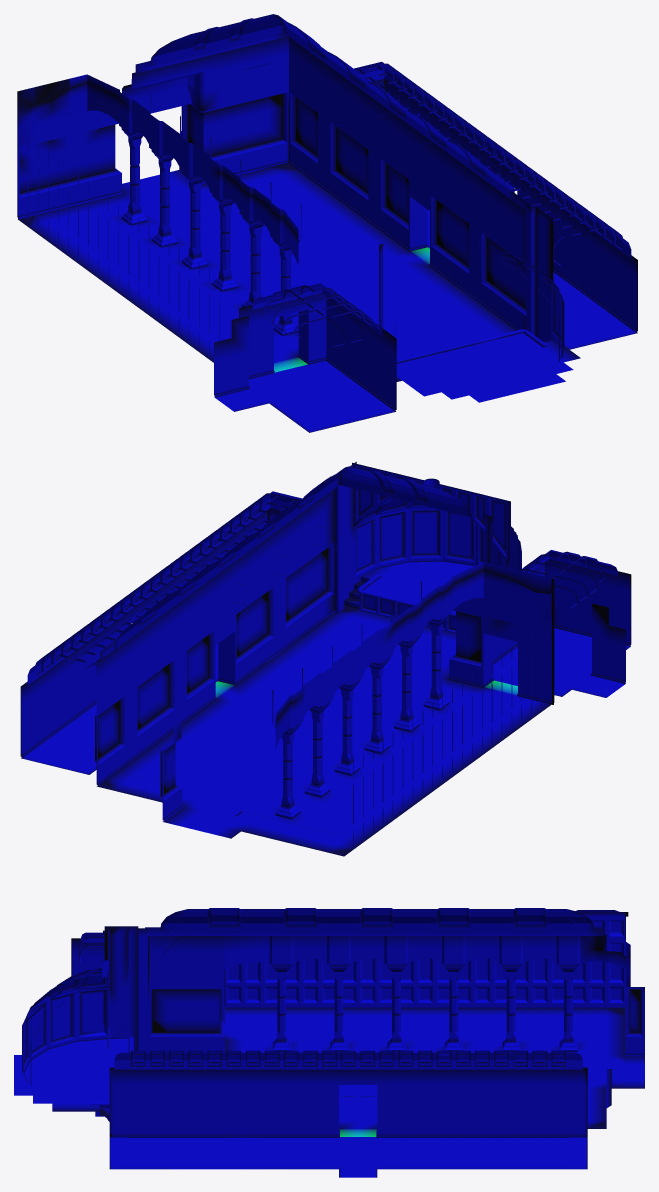
Rendered from castle_ballroom.glb.
3 renders of one model, top to bottom at view 1: azimuth 30°, elevation 25°; view 2: azimuth 150°, elevation 25°; view 3: azimuth 270°, elevation 25°, orthographic. The views are drawn at different scales.
Visible parts, largest first — view 1: StoneWalls, WoodenFloor, StoneFloor, StoneCeiling, WoodenRoofLarge, Pillars, StageBackwall, WoodenPanels, StageFront; view 2: StoneWalls, WoodenFloor, StageBackwall, StoneCeiling, Pillars, WoodenRoofLarge, StoneFloor, WoodenPanels, StageFront; view 3: StoneWalls, WoodenFloor, WoodenPanels, StoneFloor, WoodenRoofLarge, StageBackwall, StoneCeiling, Pillars.
Boxes of the visible parts, left/top/right/bottom form: StoneWalls: left=17, top=36, right=637, bottom=430; WoodenFloor: left=18, top=163, right=580, bottom=402; StoneFloor: left=215, top=209, right=637, bottom=432; StoneCeiling: left=252, top=61, right=631, bottom=346; WoodenRoofLarge: left=135, top=14, right=529, bottom=210; Pillars: left=121, top=128, right=298, bottom=335; StageBackwall: left=379, top=204, right=564, bottom=371; WoodenPanels: left=17, top=129, right=219, bottom=354; StageFront: left=396, top=329, right=547, bottom=363; StoneWalls: left=20, top=489, right=631, bottom=854; WoodenFloor: left=97, top=561, right=550, bottom=856; StageBackwall: left=330, top=461, right=521, bottom=613; StoneCeiling: left=27, top=491, right=617, bottom=685; Pillars: left=275, top=614, right=449, bottom=819; WoodenRoofLarge: left=100, top=466, right=471, bottom=659; StoneFloor: left=21, top=628, right=630, bottom=774; WoodenPanels: left=353, top=616, right=551, bottom=844; StageFront: left=357, top=574, right=455, bottom=633; StoneWalls: left=71, top=934, right=644, bottom=1175; WoodenFloor: left=14, top=1007, right=644, bottom=1136; WoodenPanels: left=224, top=916, right=625, bottom=1007; StoneFloor: left=109, top=1137, right=587, bottom=1177; WoodenRoofLarge: left=145, top=908, right=604, bottom=963; StageBackwall: left=22, top=926, right=147, bottom=1085; StoneCeiling: left=79, top=930, right=582, bottom=1096; Pillars: left=272, top=965, right=577, bottom=1051.
Bounding box in the file's own units: 23 × 9.73 × 33.
